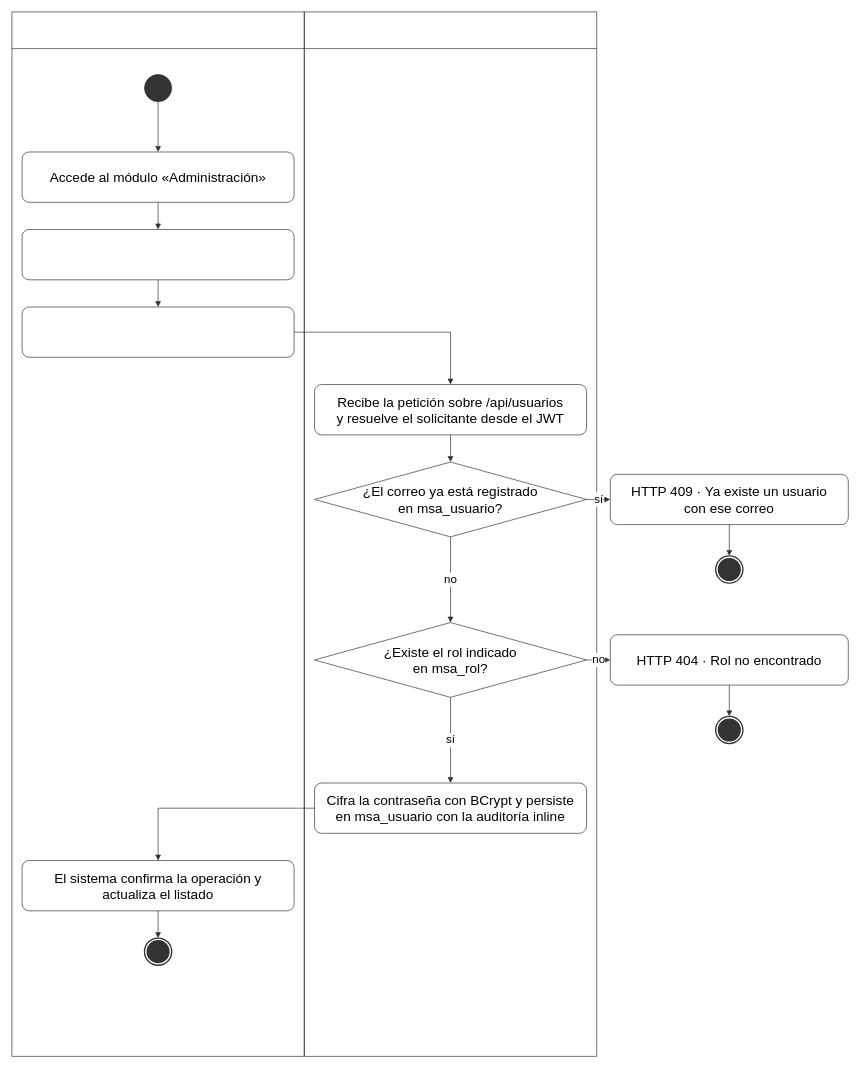
Some shapes in this 860 by 1068 pixel diagram are drawn without their labels. Each missing label, with the box of its shape:
A4 · Administrador del Sistema: (11, 11, 304, 1056)
Completa el formulario y confirma: (21, 306, 294, 357)
Elige la acción: alta, modificación, baja lógica o cambio de rol: (21, 229, 294, 280)
Sistema · ms-administracion: (304, 11, 597, 1056)
